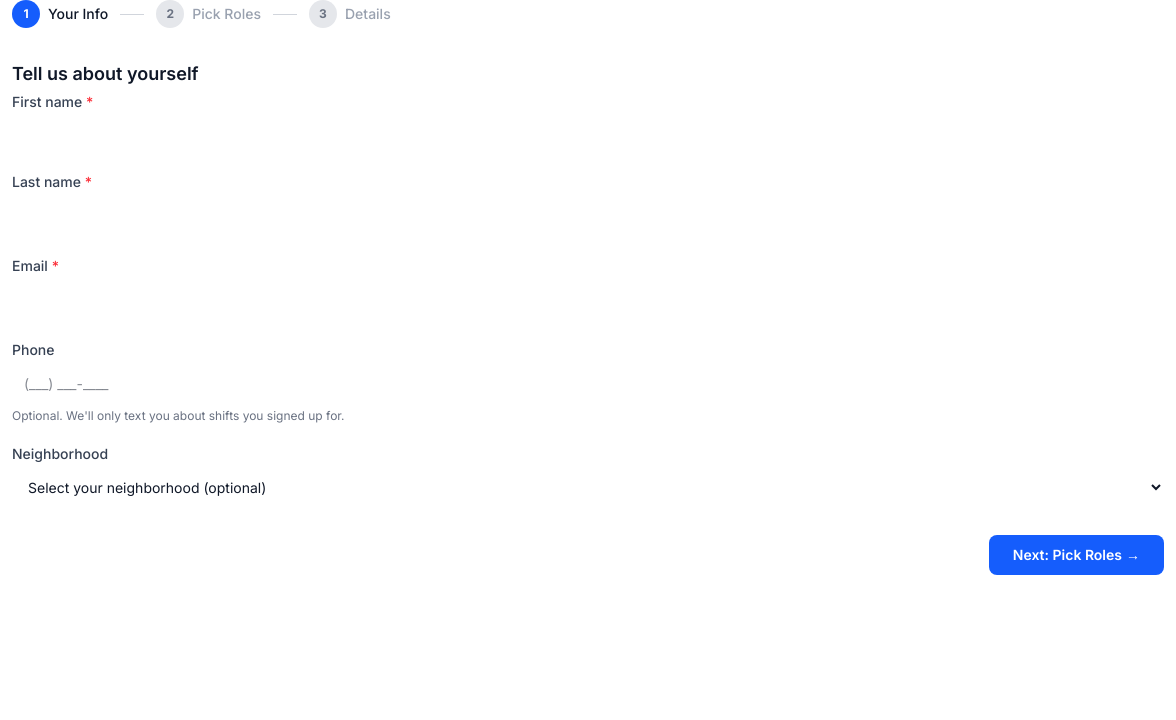
VolunteerForm accessibility › has no axe violations in error state (step 1 validation)
Click the button "Next: Pick Roles →": (1076, 555) [989,535,1164,575]
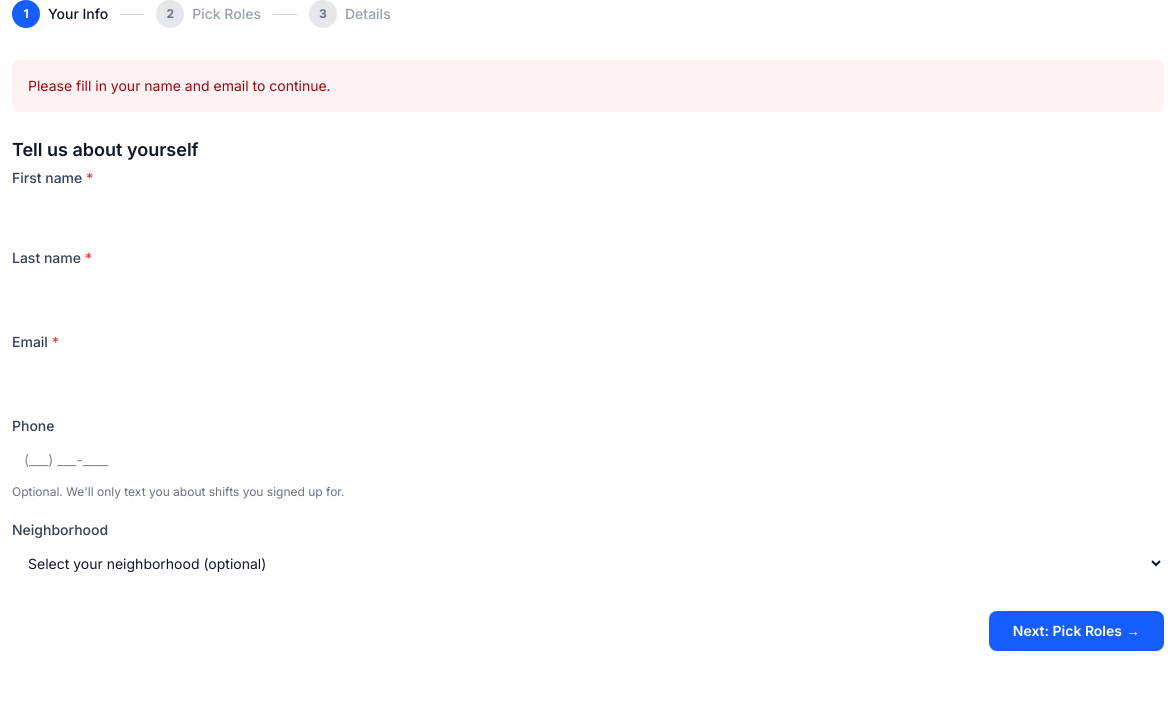
Expected: the message "Please fill in your name and email to continue." is shown, [12,60,1164,112]
